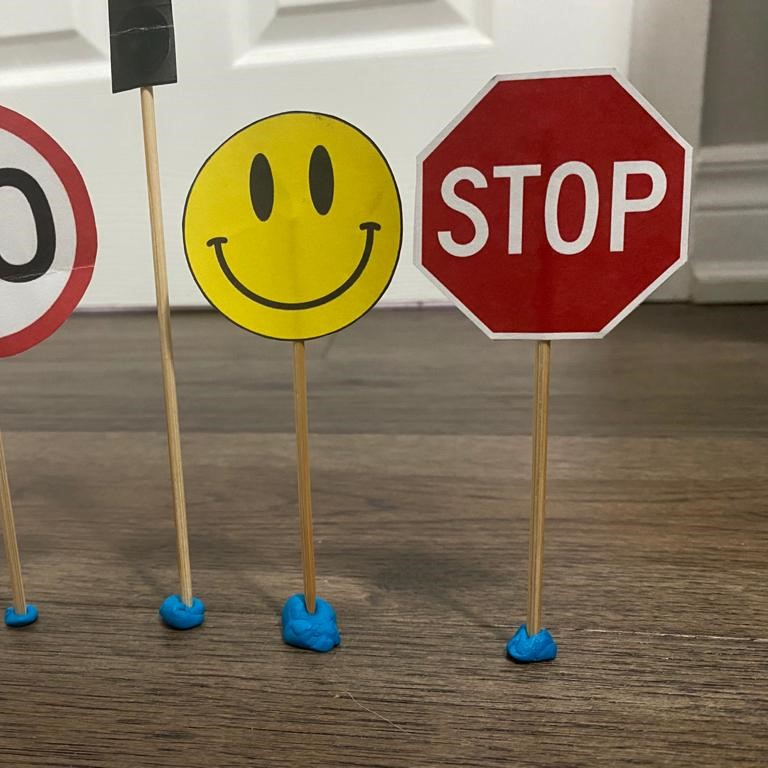Person: (180, 109, 405, 344)
Stop Sign: (410, 64, 698, 349)
